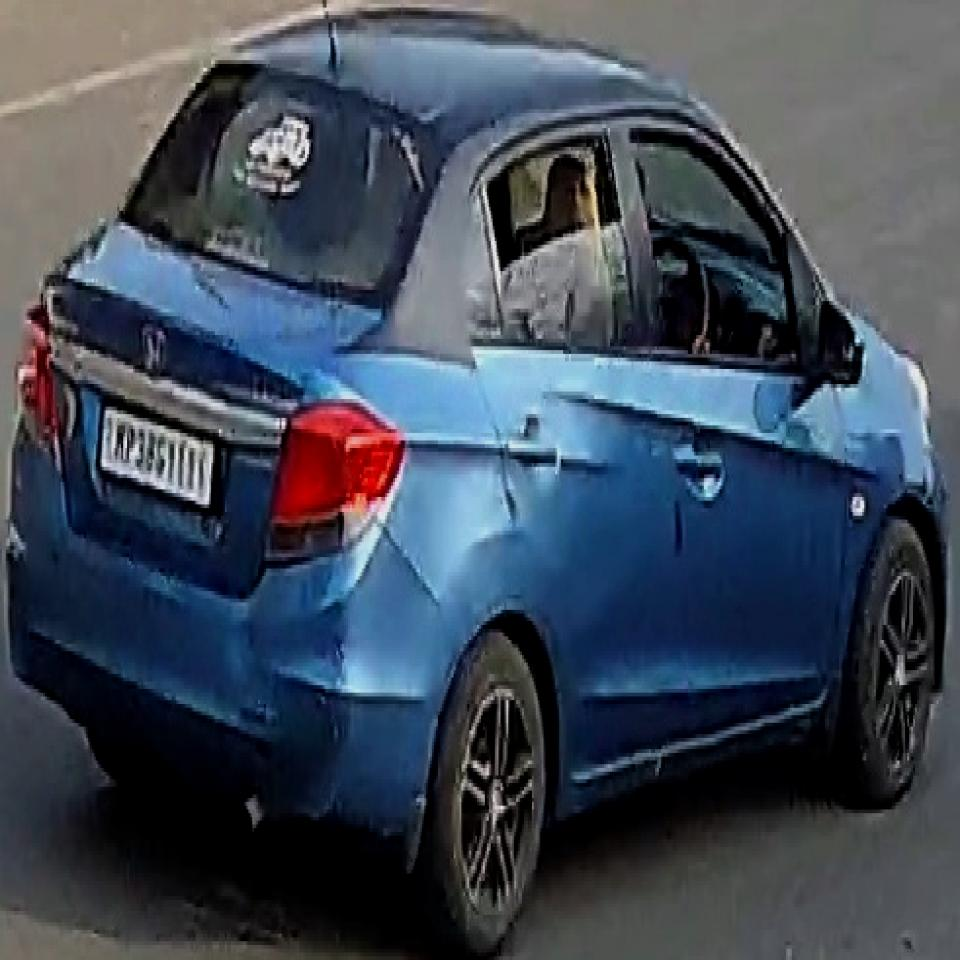tail_light: (269, 400, 406, 530)
